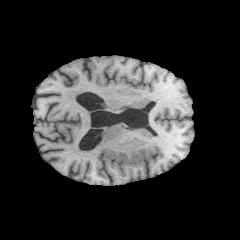glioma: (97, 148, 156, 176)
